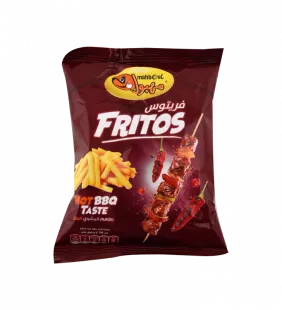MAHBOUL: (45, 36, 236, 268)
